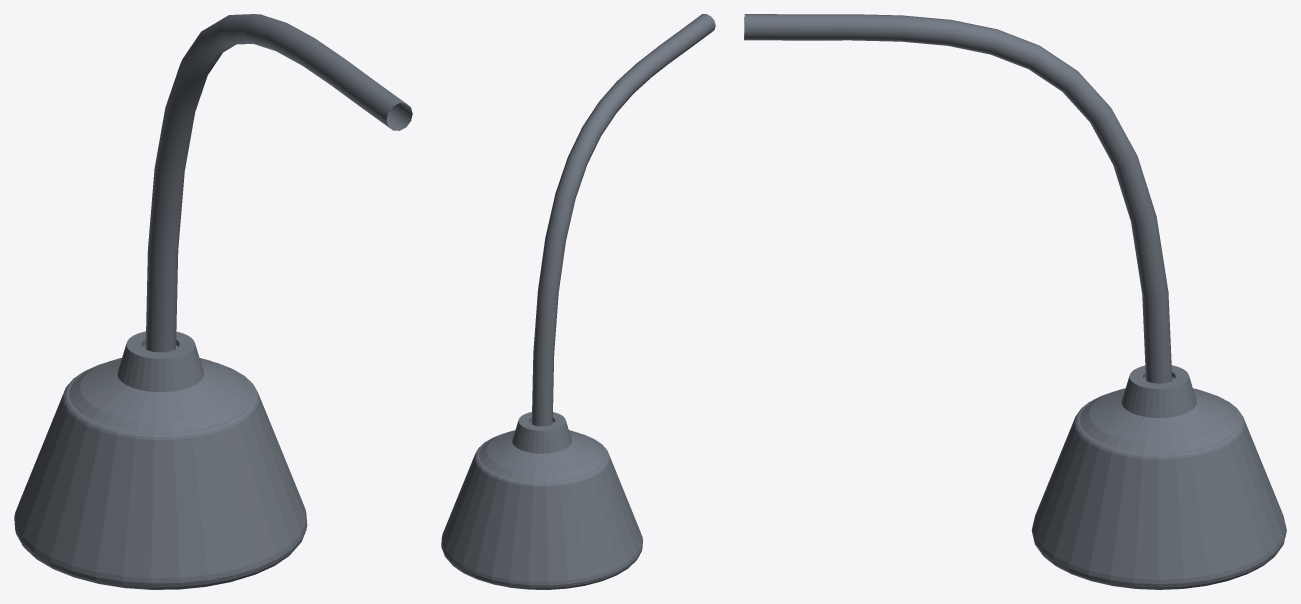
File: suihku_GJ22.fbx
3 views of the same model, side by side, from view 1: azimuth 30°, elevation 25°; view 2: azimuth 150°, elevation 25°; view 3: azimuth 270°, elevation 25° (orthographic). The views are drawn at different scales.
Visible parts, largest first — view 1: suihku; view 2: suihku; view 3: suihku.
Boxes of the visible parts, bbox=[...] form: suihku: bbox=[14, 14, 412, 589]; suihku: bbox=[441, 14, 715, 589]; suihku: bbox=[744, 14, 1286, 589].
Bounding box in the file's own units: 57.98 × 131 × 123.
